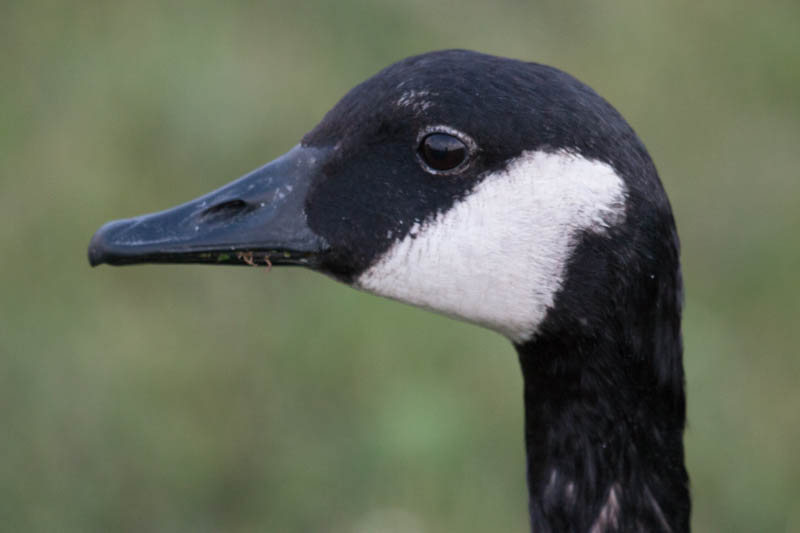goose-head: (87, 48, 683, 353)
